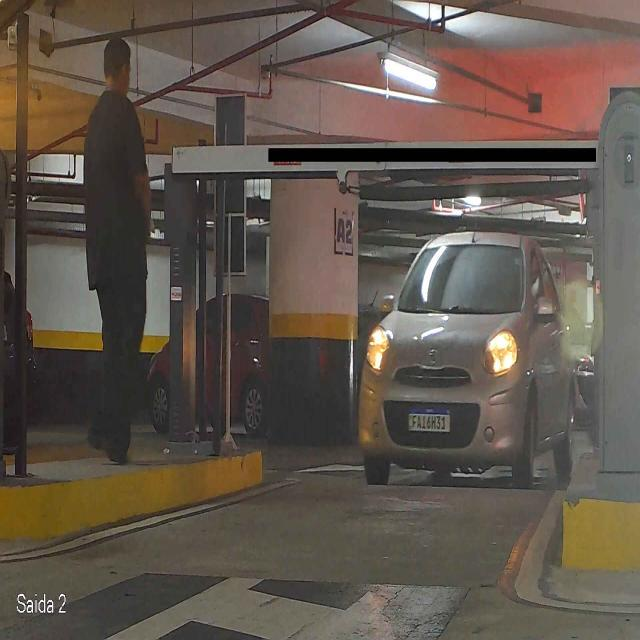mercosul_plate: (406, 408, 452, 433)
